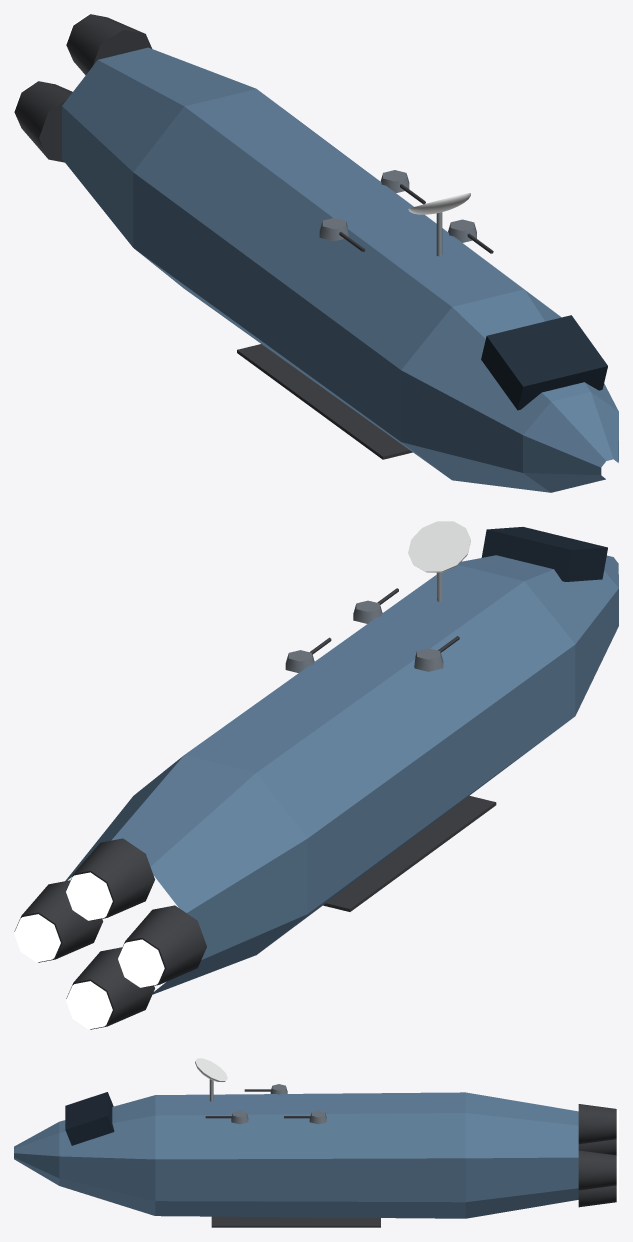
The model's file is space_ship_transport_mk6.glb.
The picture shows the model from 3 angles, top to bottom: view 1: azimuth 30°, elevation 25°; view 2: azimuth 150°, elevation 25°; view 3: azimuth 270°, elevation 25°; orthographic projection. The views are drawn at different scales.
Parts seen in each view (by area): view 1: body, hangar_door, engine_2, engine_1, antenna_0, turret_1; view 2: body, engine_2, engine_1, engine_0, engine_3, hangar_door, antenna_0, turret_1; view 3: body, hangar_door, engine_1, engine_0, engine_3, antenna_0, engine_2, turret_0, turret_2.
Boxes of the visible parts, <box> form: body: <box>62,47,618,492</box>; hangar_door: <box>237,344,412,459</box>; engine_2: <box>14,81,72,162</box>; engine_1: <box>66,14,152,75</box>; antenna_0: <box>408,193,470,256</box>; turret_1: <box>319,218,365,251</box>; body: <box>65,527,618,994</box>; engine_2: <box>118,905,206,987</box>; engine_1: <box>66,838,154,920</box>; engine_0: <box>14,880,103,962</box>; engine_3: <box>66,947,154,1029</box>; hangar_door: <box>323,795,496,911</box>; antenna_0: <box>408,521,470,601</box>; turret_1: <box>414,636,459,671</box>; body: <box>14,1092,578,1218</box>; hangar_door: <box>211,1216,380,1227</box>; engine_1: <box>578,1104,618,1144</box>; engine_0: <box>578,1150,618,1190</box>; engine_3: <box>578,1184,618,1207</box>; antenna_0: <box>195,1058,227,1101</box>; engine_2: <box>578,1138,618,1154</box>; turret_0: <box>205,1110,248,1124</box>; turret_2: <box>284,1110,326,1124</box>.
Size of what is drawn, in the model's own units: 5.96 by 8.48 by 30.85.
